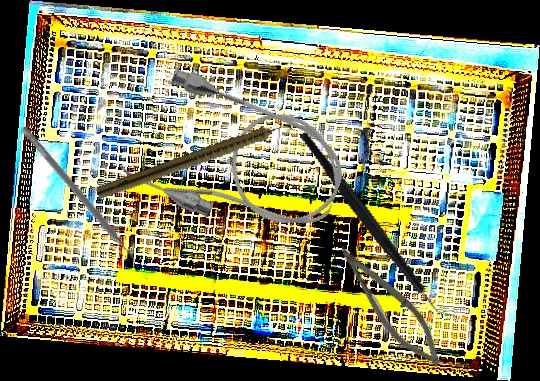Cannula: (118, 62, 359, 258)
Chopper: (299, 106, 457, 345)
Handpiece: (95, 116, 296, 204)
Micro Scissor: (323, 237, 456, 376)
Spatula Surgical: (14, 125, 143, 270)
